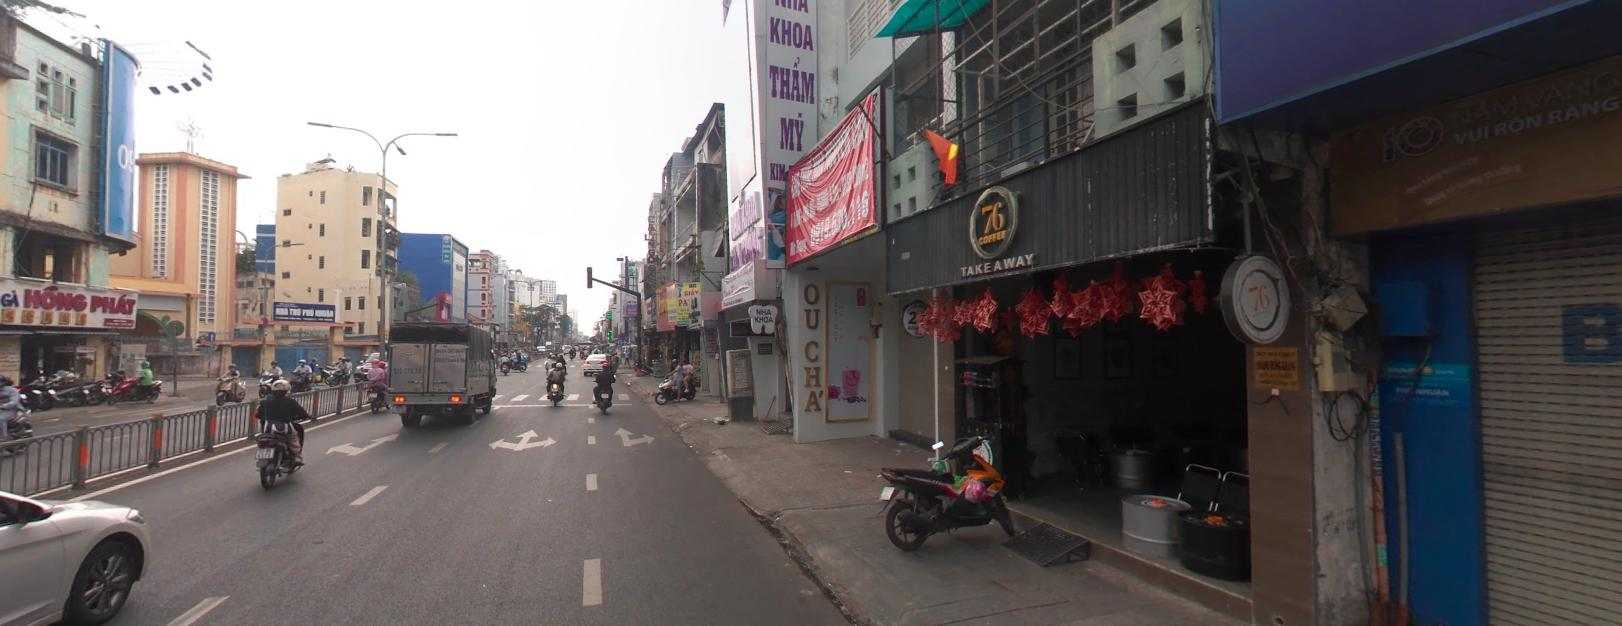Cam dung va do: (618, 330, 625, 337)
